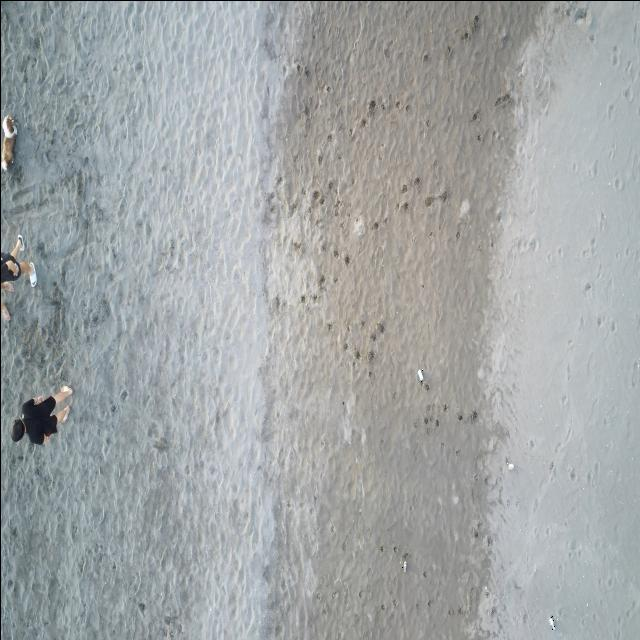Garbage: (416, 368, 423, 383), (548, 615, 555, 628)
